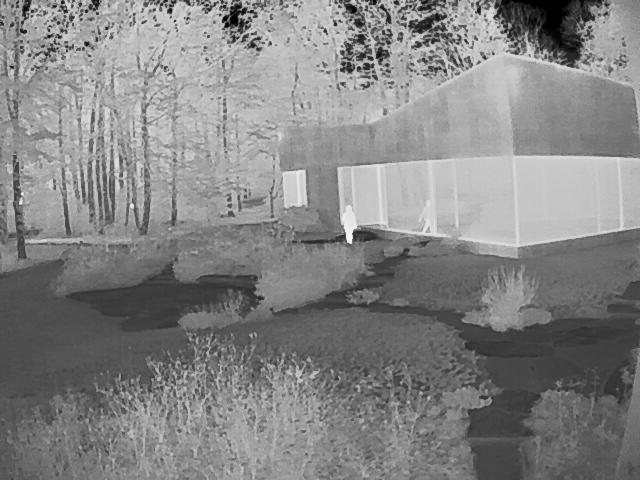person: (343, 204, 360, 243), (420, 201, 436, 235)
